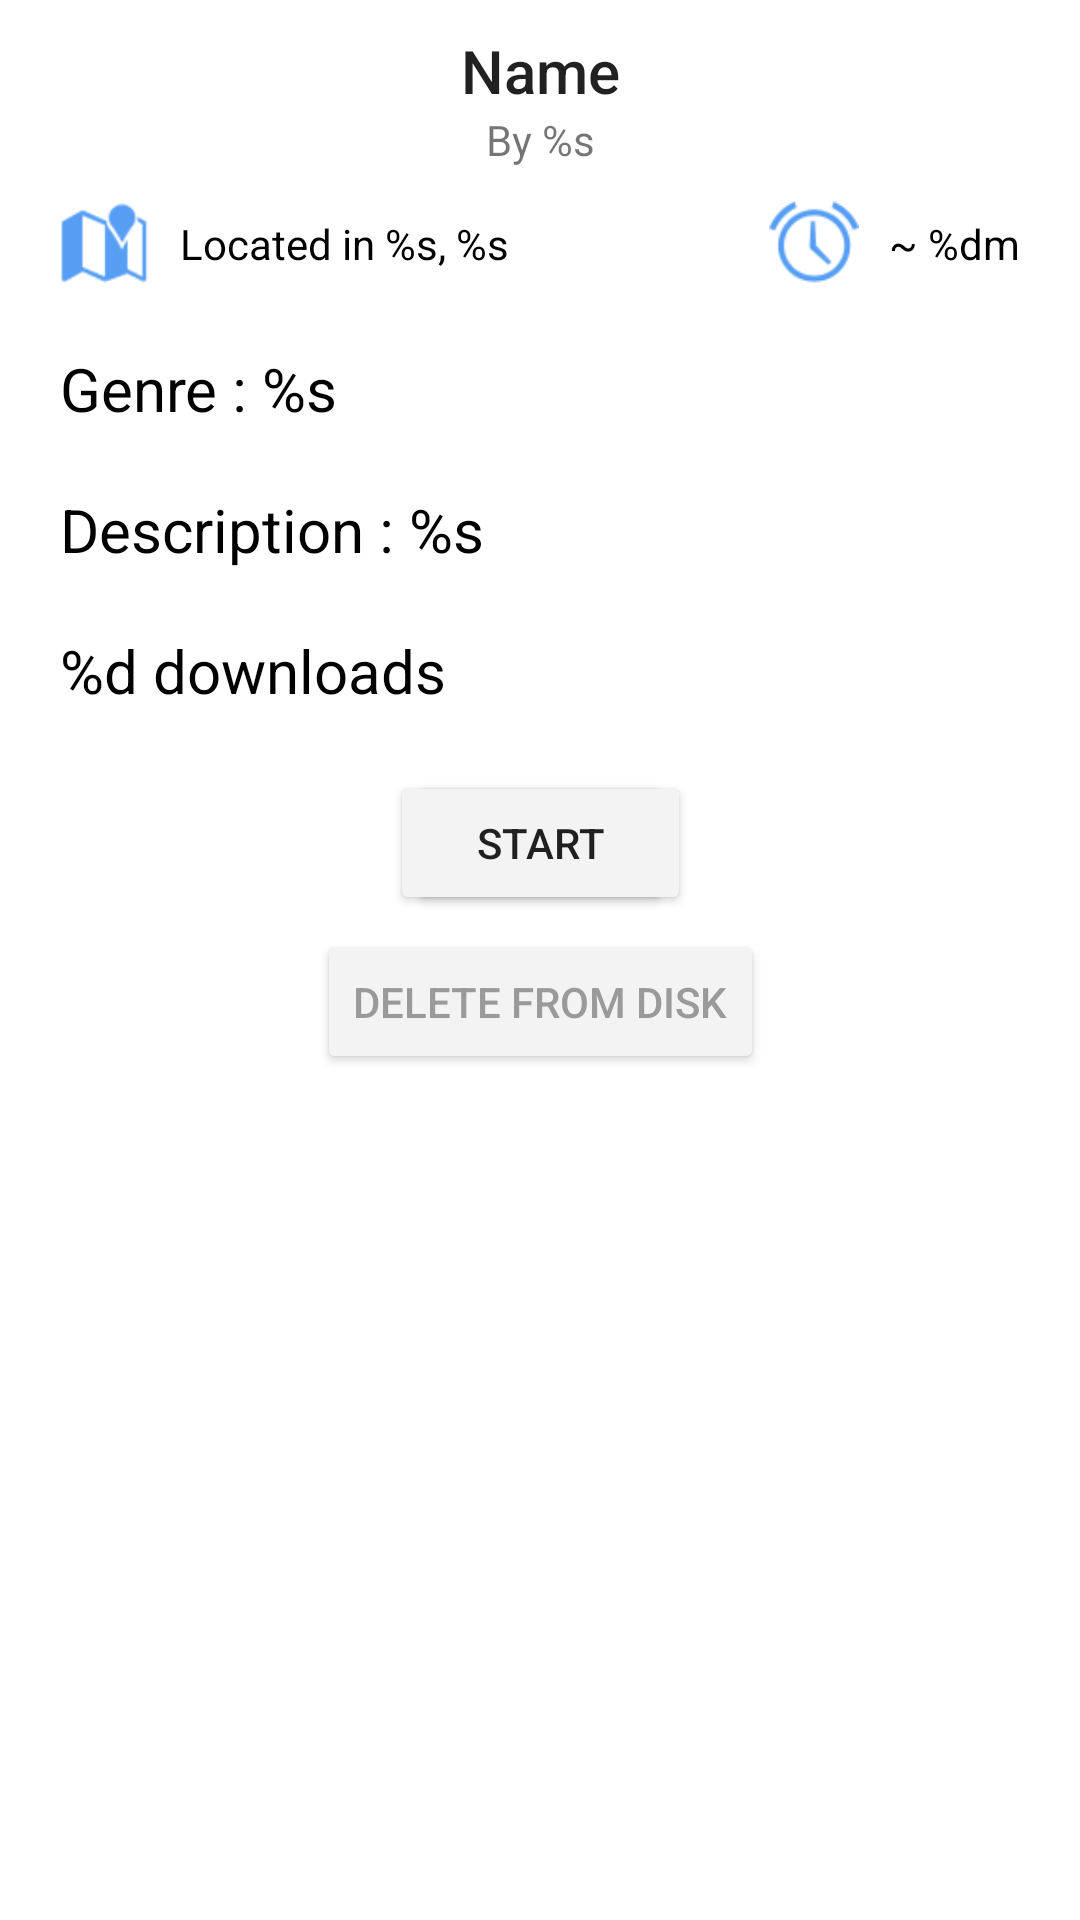

Icons on this 1080px x 1920px Android screen, each with the point to tap as (x=x, y=y):
lock idle alarm: (x=814, y=242)
map: (x=104, y=243)
